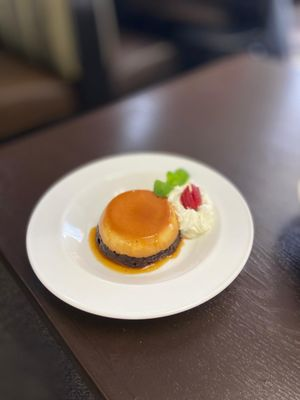curry: (0, 47, 300, 400)
